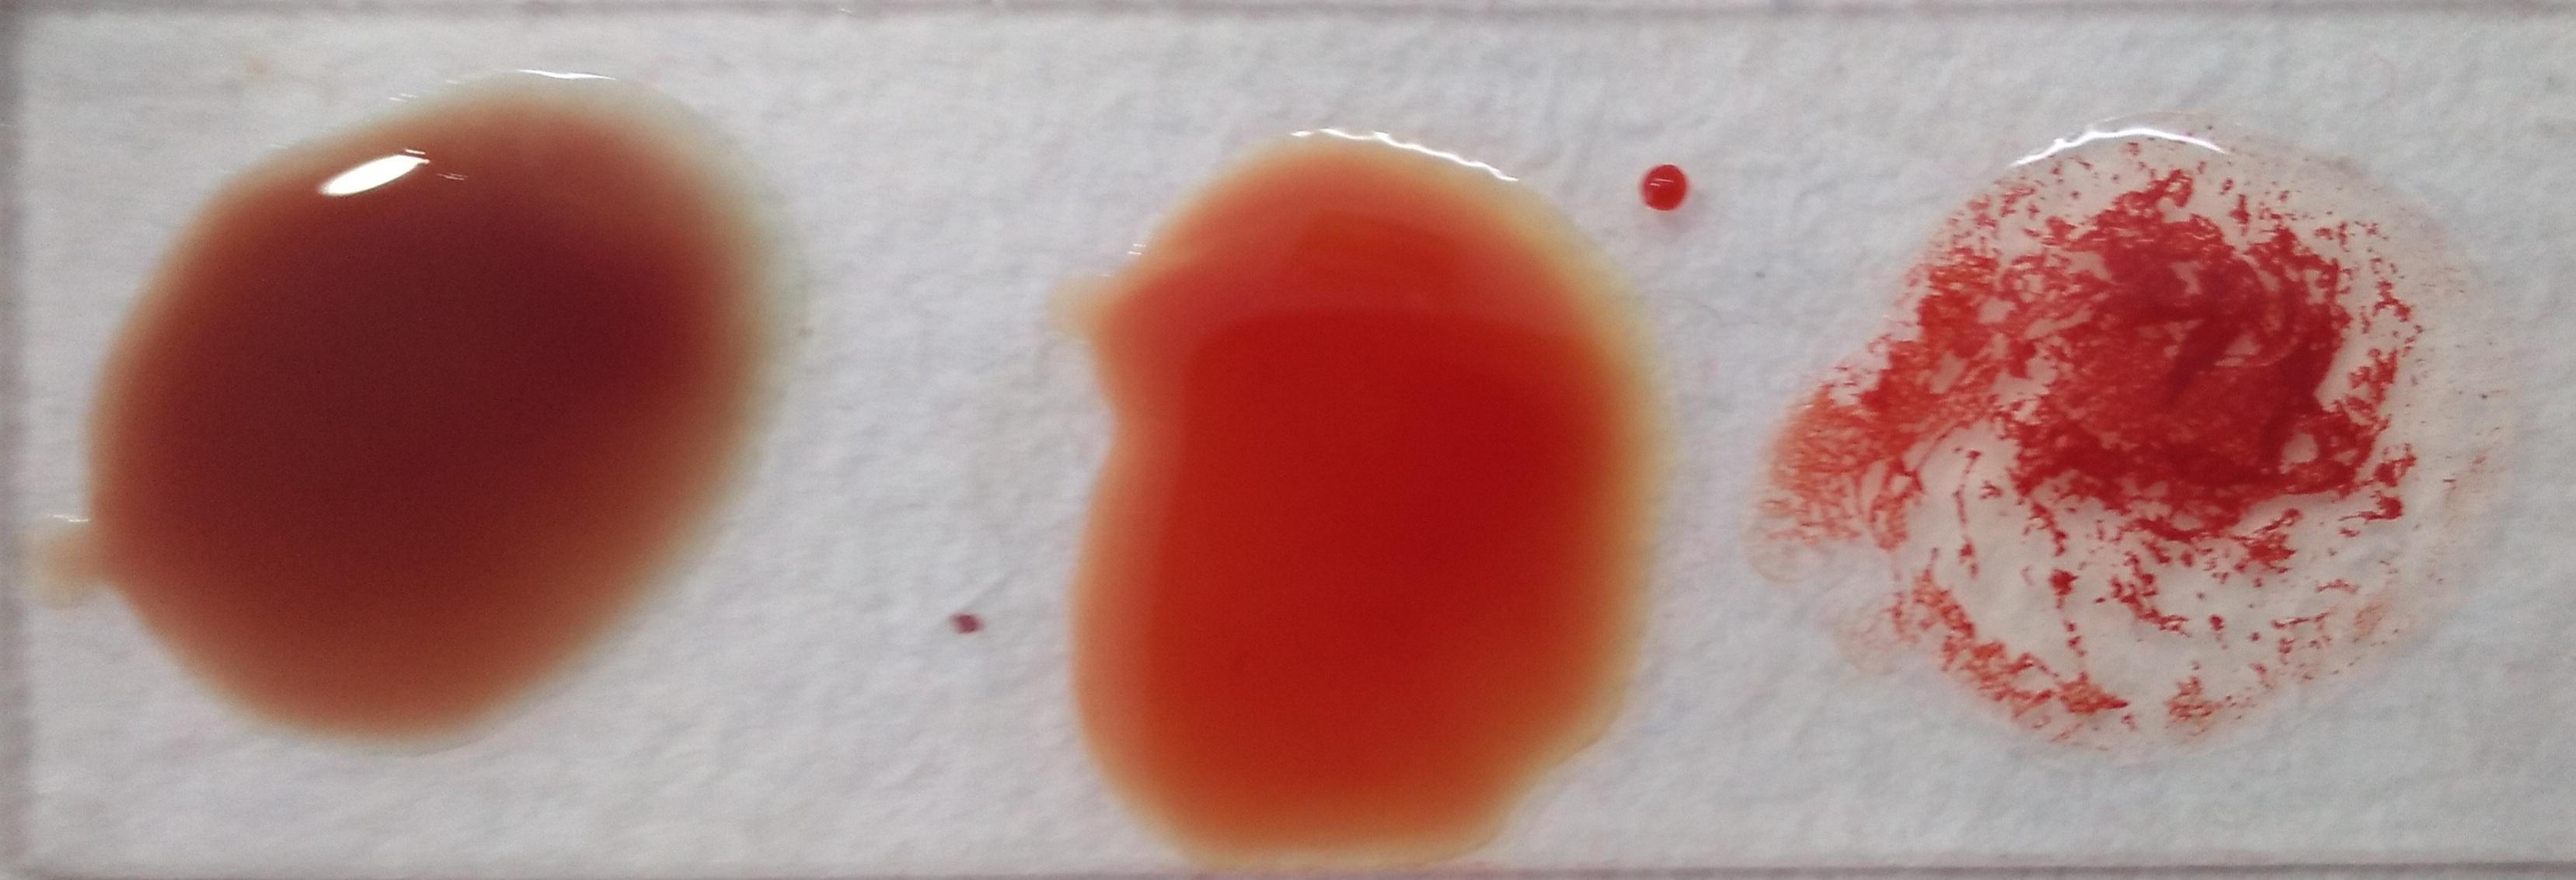D: (1842, 133, 2459, 734)
